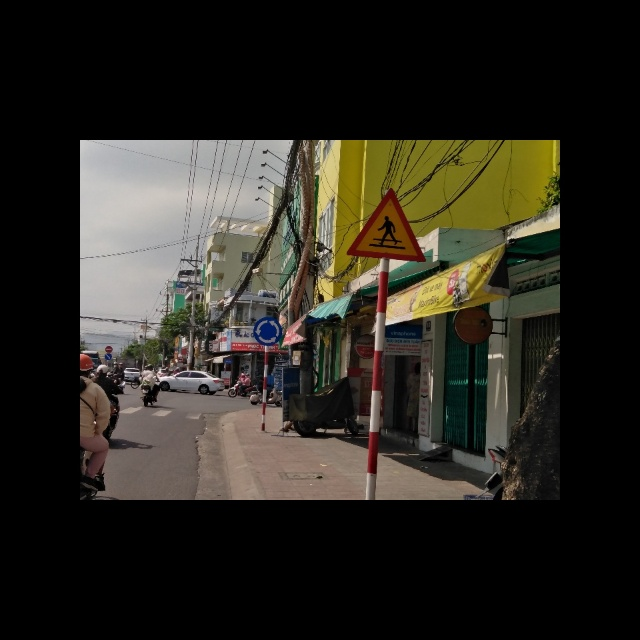Nơi giao nhau chạy theo vòng xuyến: (253, 317, 281, 345)
Đường người đi bộ sang đường: (344, 186, 427, 263)
